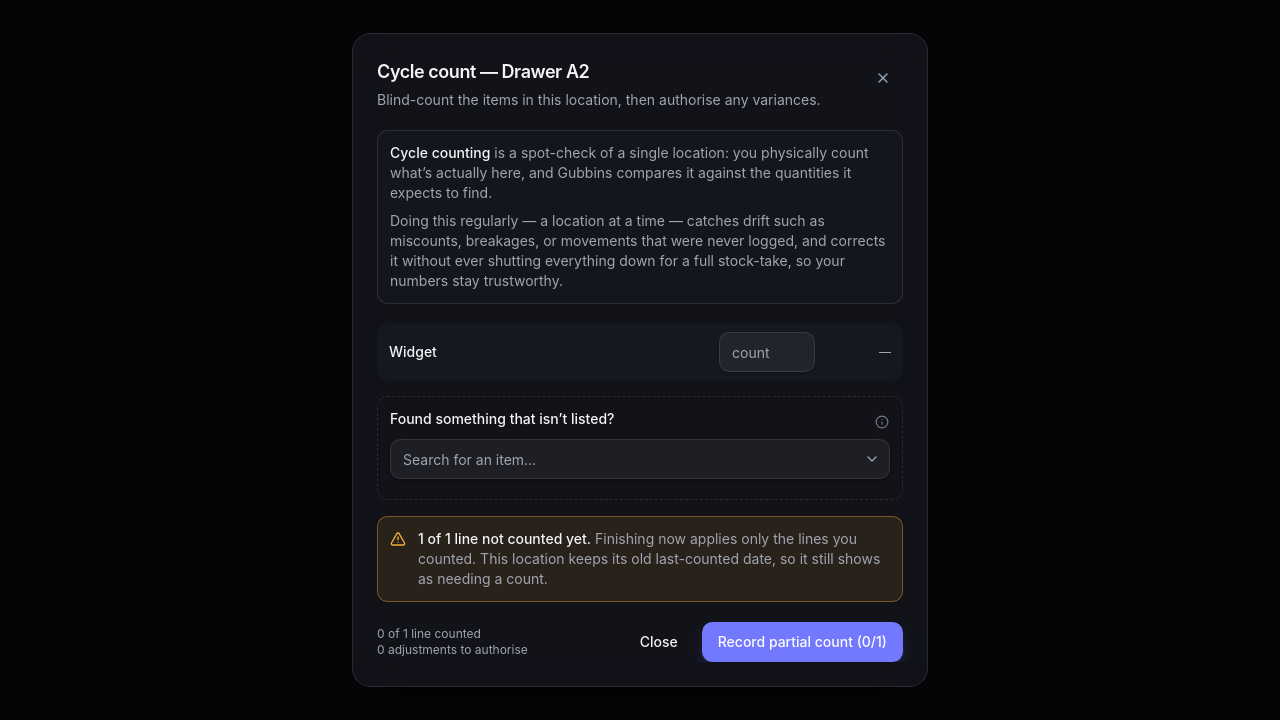
Test: CycleCountDialog — aria-live reconciliation result (WCAG 4.1.3, Phase 63) › populates the live region with the completion message after authorise
Type "8" into the number field with placeholder "count" at [767, 352], box [719,332,815,372]
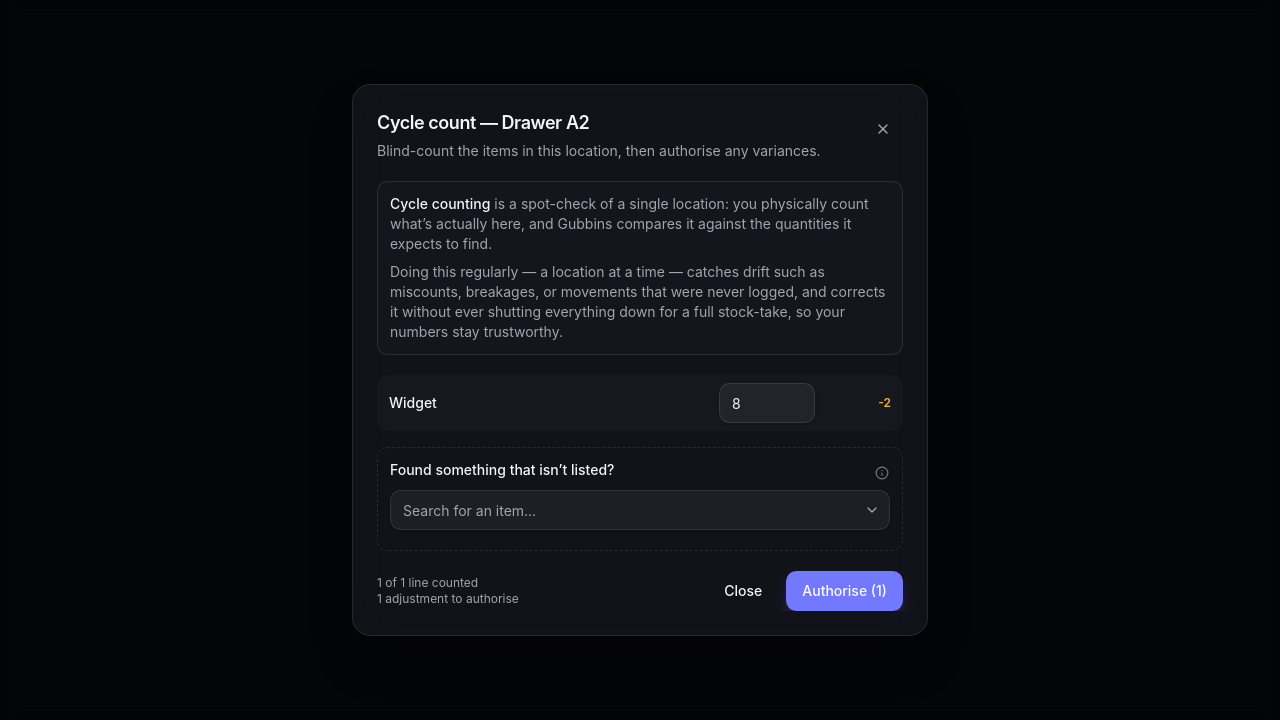
Note: Click Authorise and let the async reconciliation complete.
Click the button with test id "authorise-reconciliation" at [845, 591], box [786,571,903,611]
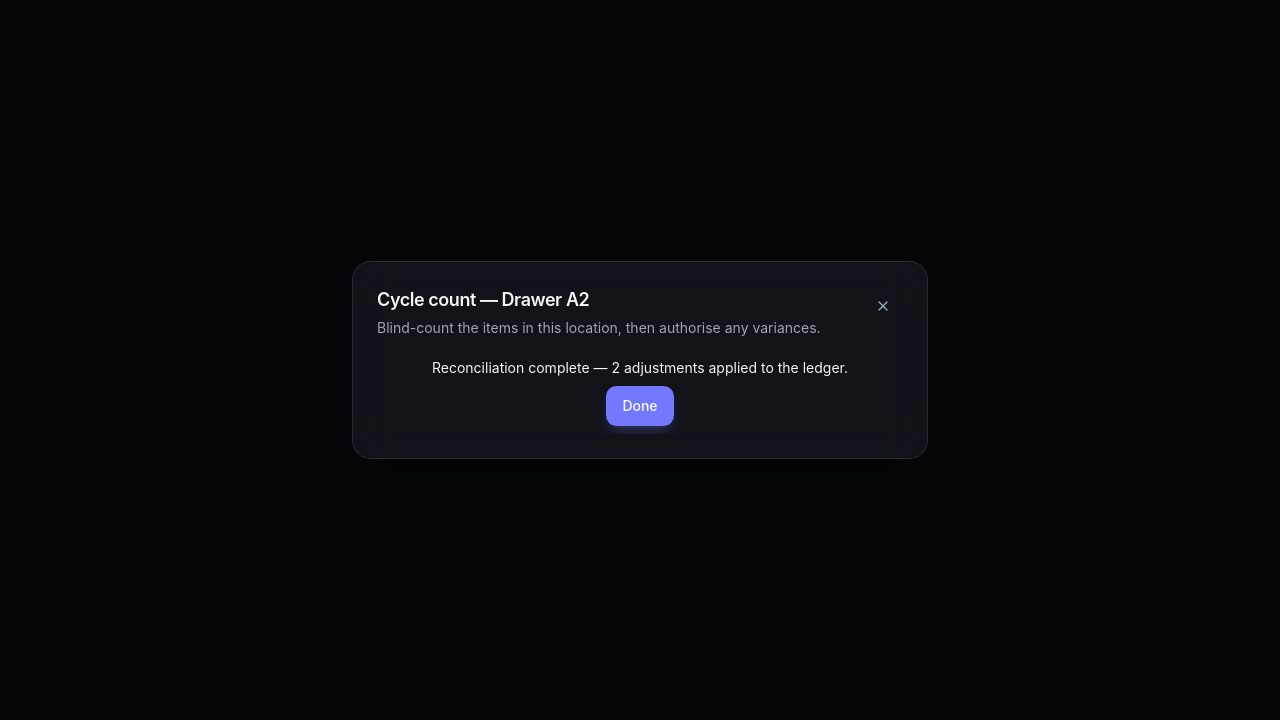
expect the message with test id "cycle-count-result" shows "Reconciliation complete": met, box [432,359,848,376]
expect the message with test id "cycle-count-result" shows "2 adjustments applied to the ledger": met, box [432,359,848,376]
